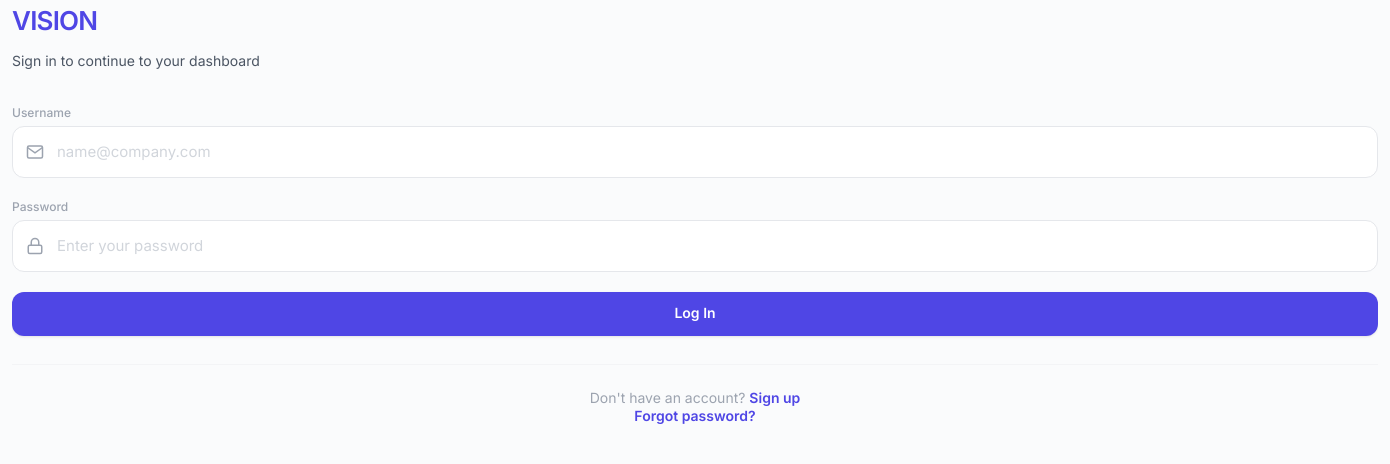
Test: LoginForm › should show validation error for empty password
# Updated to match design system: "Username" label
Type "test@example.com" into the field labelled "Username" at (695, 152), box [12,126,1378,178]
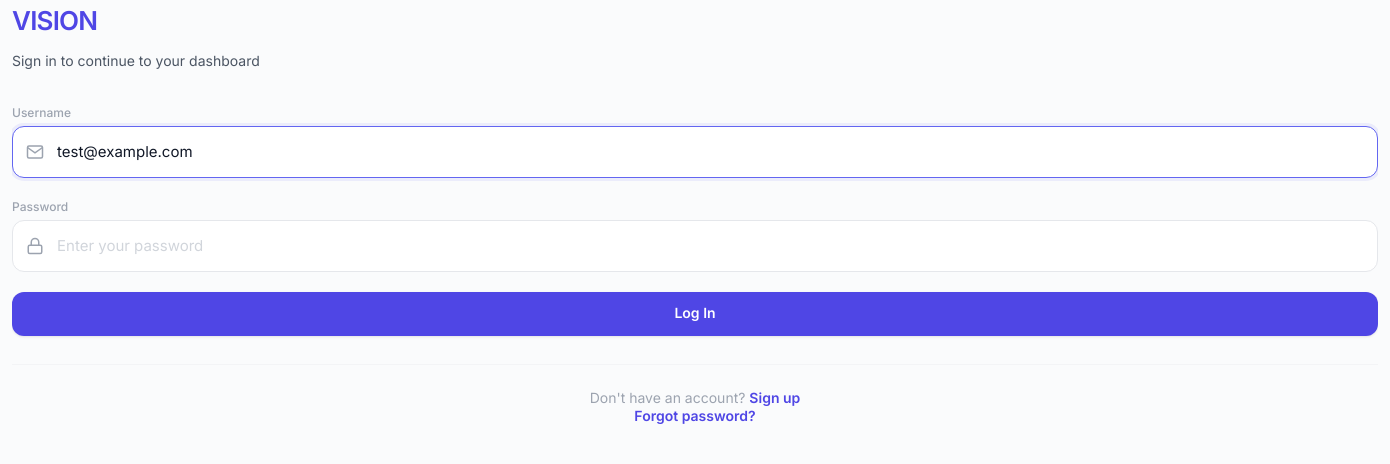
# Updated to match design system: "Log In" button
Click the button "Log In" at (695, 314), box [12,292,1378,336]
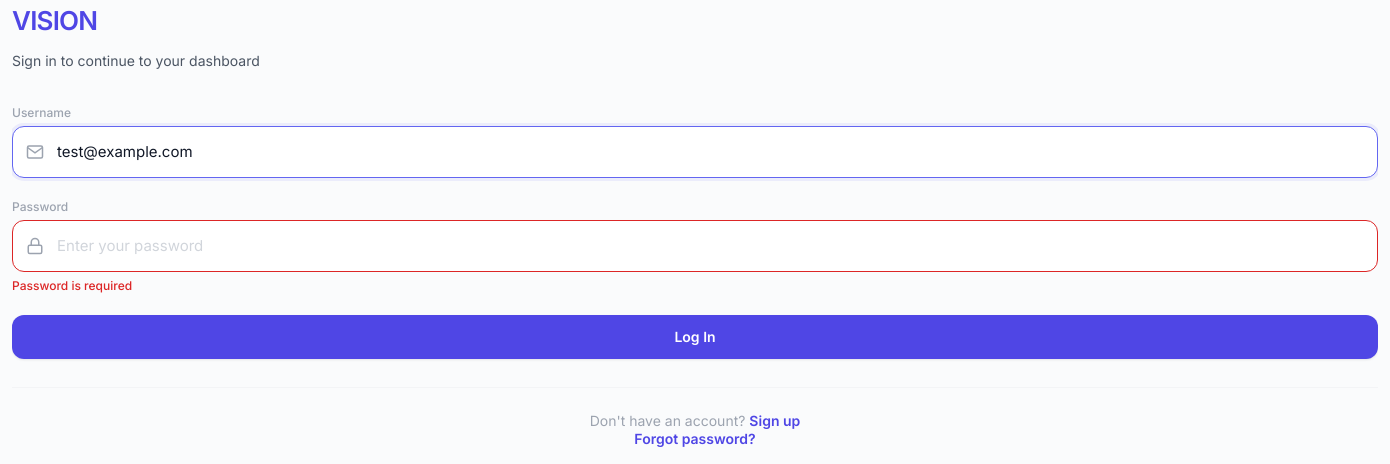
Check: the text "Password is required" is shown, box [12,278,132,293]
